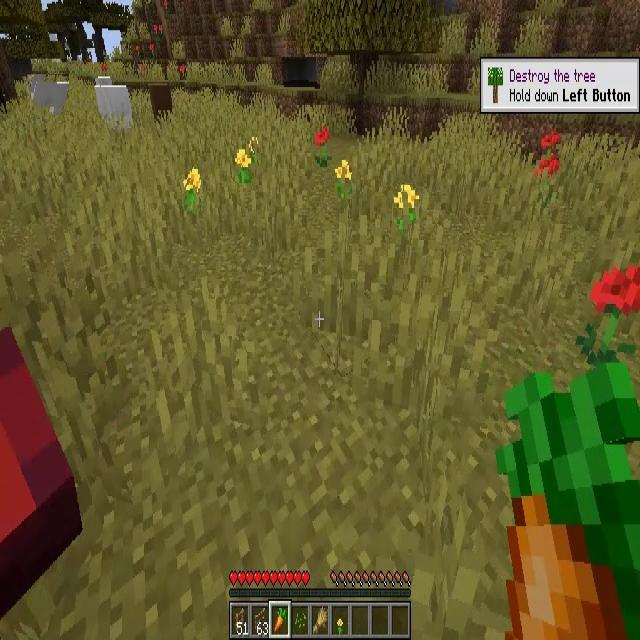flower: (394, 184, 419, 220), (185, 167, 200, 211), (238, 148, 252, 186), (335, 159, 353, 183)
sheep: (95, 77, 131, 127), (27, 74, 69, 115), (150, 81, 172, 122)
